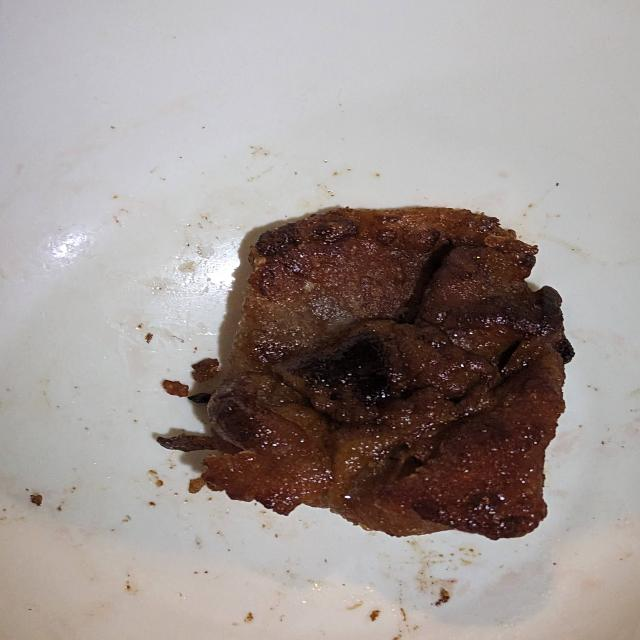overcooked pork: (143, 189, 597, 547)
